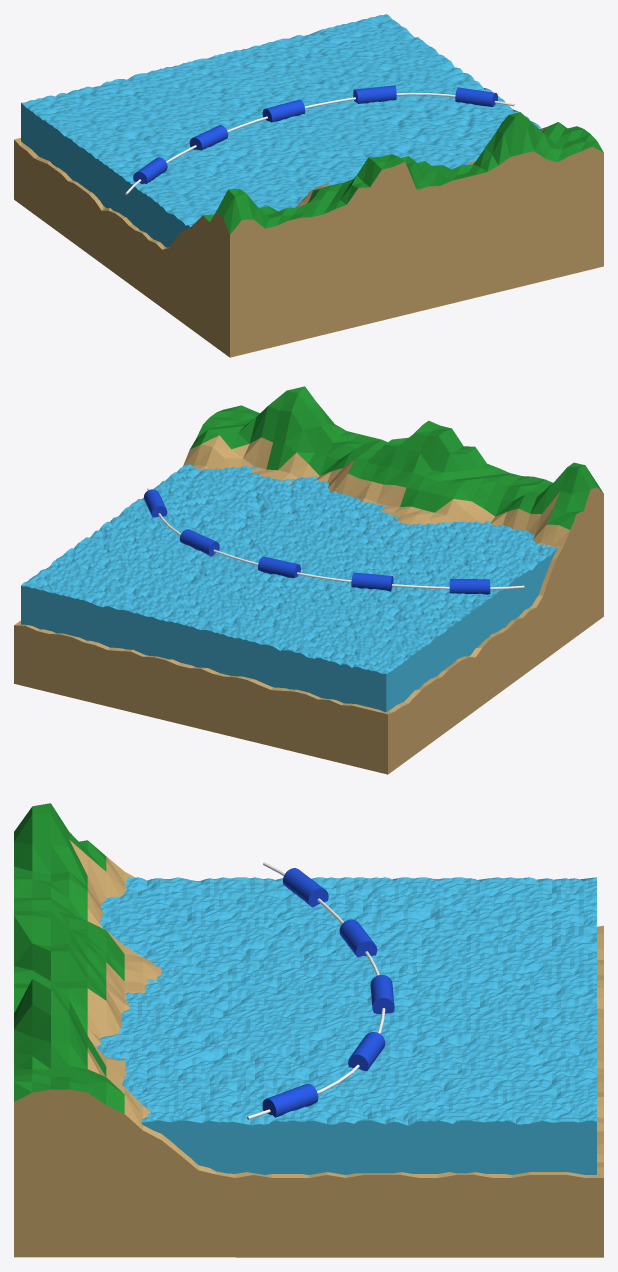
Rendered from sunin.fbx.
The picture shows the model from 3 angles, top to bottom: view 1: azimuth 30°, elevation 25°; view 2: azimuth 150°, elevation 25°; view 3: azimuth 270°, elevation 25°; orthographic projection. The views are drawn at different scales.
Parts seen in each view (by area): view 1: land, sea, barral, line; view 2: sea, land, barral, line; view 3: sea, land, barral, line.
Boxes of the visible parts, x1=… form: land: x1=14, y1=112, x2=603, y2=357; sea: x1=21, y1=14, x2=541, y2=247; barral: x1=133, y1=85, x2=497, y2=183; line: x1=125, y1=93, x2=514, y2=194; sea: x1=21, y1=464, x2=557, y2=712; land: x1=14, y1=386, x2=603, y2=774; barral: x1=144, y1=489, x2=490, y2=594; line: x1=147, y1=488, x2=524, y2=589; sea: x1=95, y1=877, x2=596, y2=1174; land: x1=14, y1=803, x2=603, y2=1257; barral: x1=262, y1=868, x2=394, y2=1117; line: x1=247, y1=862, x2=385, y2=1119.
Bounding box in the file's own units: 762 × 309 × 737.
